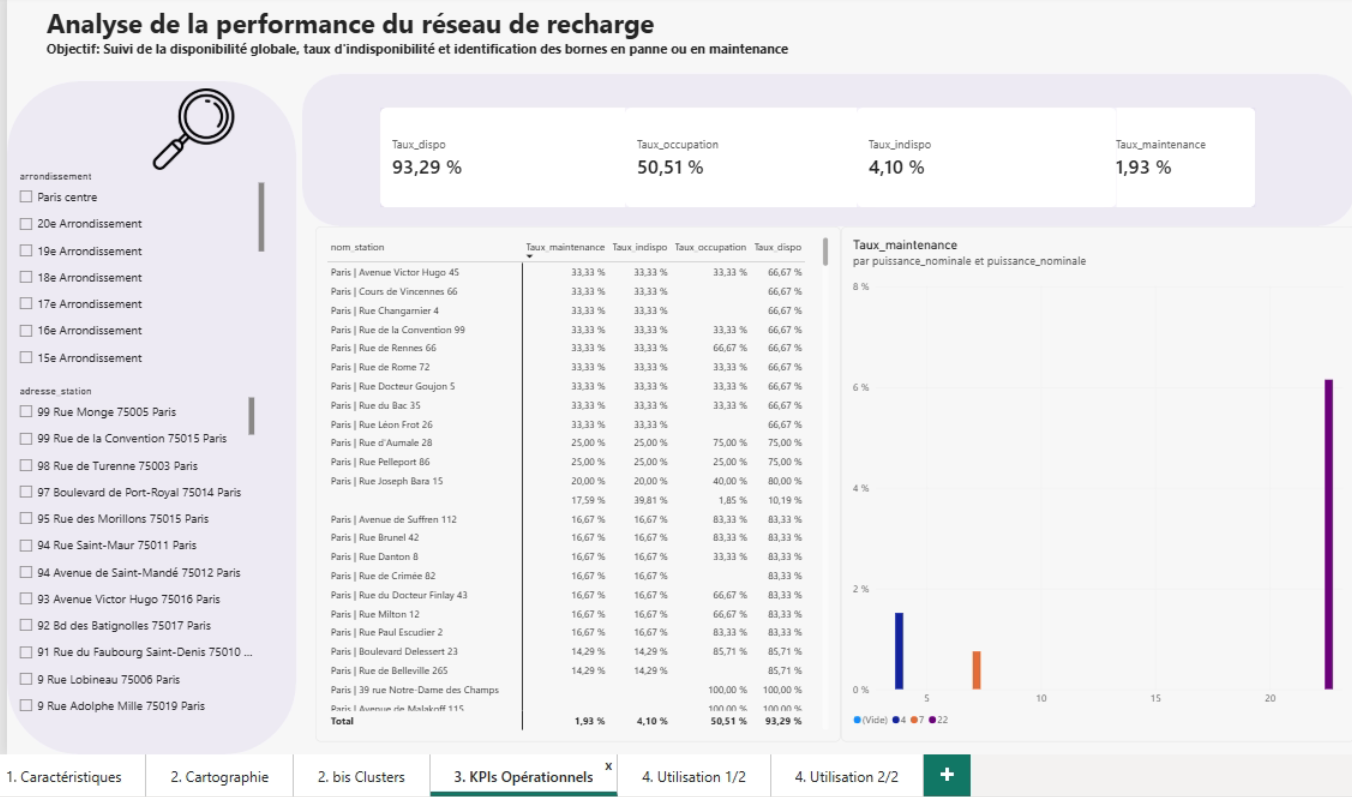

Layout of this report page (visuals, bound fields, positions):
{"tool":"powerbi","page":{"name":"3. KPIs Opérationnels","canvas":[1920,1080],"ordinal":3},"visuals":[{"type":"shape","box":[420.4,111.1,1500.4,217],"z":0},{"type":"shape","box":[0,121.3,411.8,958.7],"z":1000},{"type":"cardVisual","fields":{"Data":["belib_db fait_dispo.Taux_dispo"]},"box":[532,159.6,370,142],"z":2000},{"type":"slicer","fields":{"Values":["belib_db dim_statique.arrondissement"]},"box":[10,248,356,278],"z":3000},{"type":"cardVisual","fields":{"Data":["belib_db fait_dispo.Taux_occupation"]},"box":[880,159.6,356,142],"z":4000},{"type":"slicer","fields":{"Values":["belib_db dim_statique.adresse_station"]},"box":[10,554,342,470],"z":5000},{"type":"textbox","box":[56.4,13.7,1862.7,99.1],"z":6000},{"type":"cardVisual","fields":{"Data":["belib_db fait_dispo.Taux_panne"]},"box":[1562,159.6,216,142],"z":7000},{"type":"cardVisual","fields":{"Data":["belib_db fait_dispo.Taux_indispo"]},"box":[1210,159.6,370,142],"z":8000},{"type":"pivotTable","fields":{"Rows":["belib_db dim_statique.nom_station"],"Values":["belib_db fait_dispo.Taux_maintenance","belib_db fait_dispo.Taux_indispo","belib_db fait_dispo.Taux_occupation","belib_db fait_dispo.Taux_dispo"]},"box":[440,328,748,734],"z":9000},{"type":"image","box":[165.8,131.6,200,116],"z":10000},{"type":"clusteredColumnChart","fields":{"Category":["belib_db dim_statique.puissance_nominale"],"Series":["belib_db dim_statique.puissance_nominale"],"Y":["belib_db fait_dispo.Taux_maintenance"]},"box":[1188,328,732,734],"z":10001}]}

Visuals, with their boxes on the page's 1920x1080 design canvas (x1, y1, x2, y2). These are canvas units, not pixel positions in the 1352x797 screenshot, which may show the page scaled, cropped or inside an application window:
shape: [left=420, top=111, right=1921, bottom=328]
shape: [left=0, top=121, right=412, bottom=1080]
cardVisual - belib_db fait_dispo.Taux_dispo: [left=532, top=160, right=902, bottom=302]
slicer - belib_db dim_statique.arrondissement: [left=10, top=248, right=366, bottom=526]
cardVisual - belib_db fait_dispo.Taux_occupation: [left=880, top=160, right=1236, bottom=302]
slicer - belib_db dim_statique.adresse_station: [left=10, top=554, right=352, bottom=1024]
textbox: [left=56, top=14, right=1919, bottom=113]
cardVisual - belib_db fait_dispo.Taux_panne: [left=1562, top=160, right=1778, bottom=302]
cardVisual - belib_db fait_dispo.Taux_indispo: [left=1210, top=160, right=1580, bottom=302]
pivotTable - belib_db dim_statique.nom_station x belib_db fait_dispo.Taux_maintenance: [left=440, top=328, right=1188, bottom=1062]
image: [left=166, top=132, right=366, bottom=248]
clusteredColumnChart - belib_db dim_statique.puissance_nominale x belib_db dim_statique.puissance_nominale: [left=1188, top=328, right=1920, bottom=1062]
